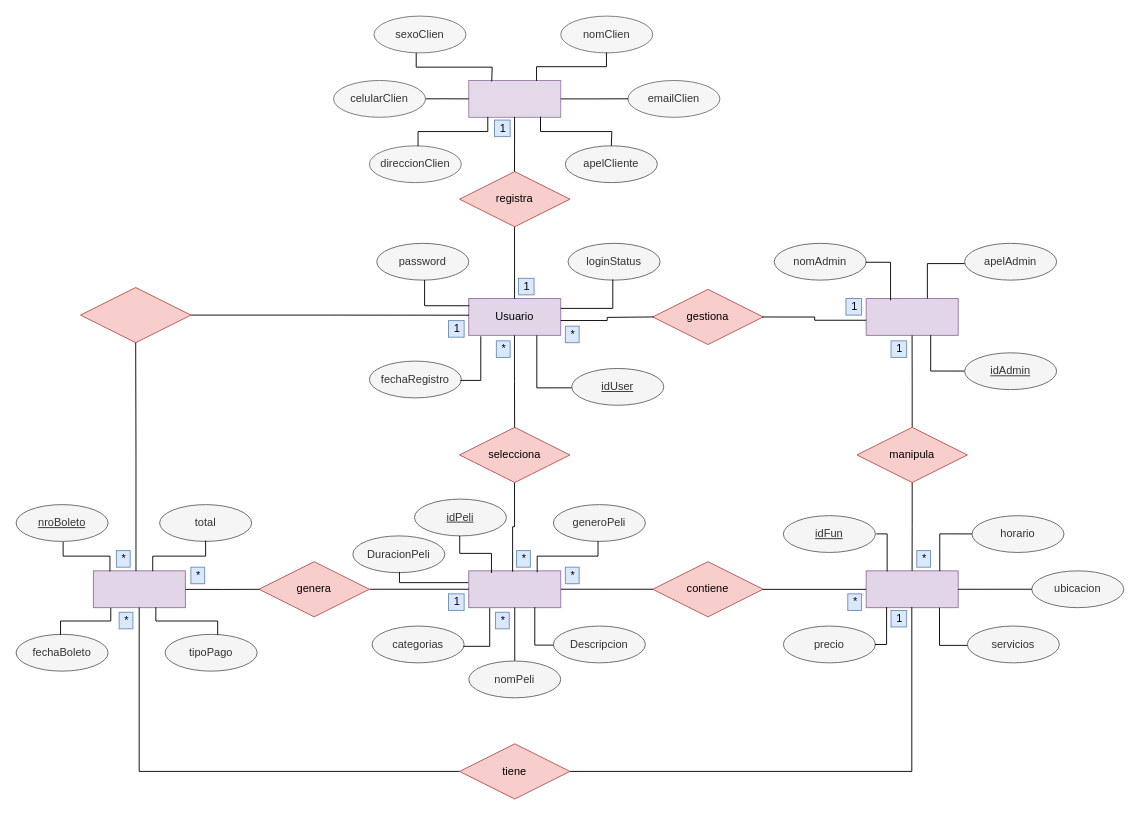
The diagram is 1140 pixels wide and 815 high, and some of its shapes have lost their labels. Each missing label, with the centre of its shape:
"acceso" goes at point 135,315.
"Administrador" goes at point 911,316.
"Boleto" goes at point 138,589.
"Cliente" goes at point 514,98.
"Funciones" goes at point 911,589.
"Peliculas" goes at point 514,589.
